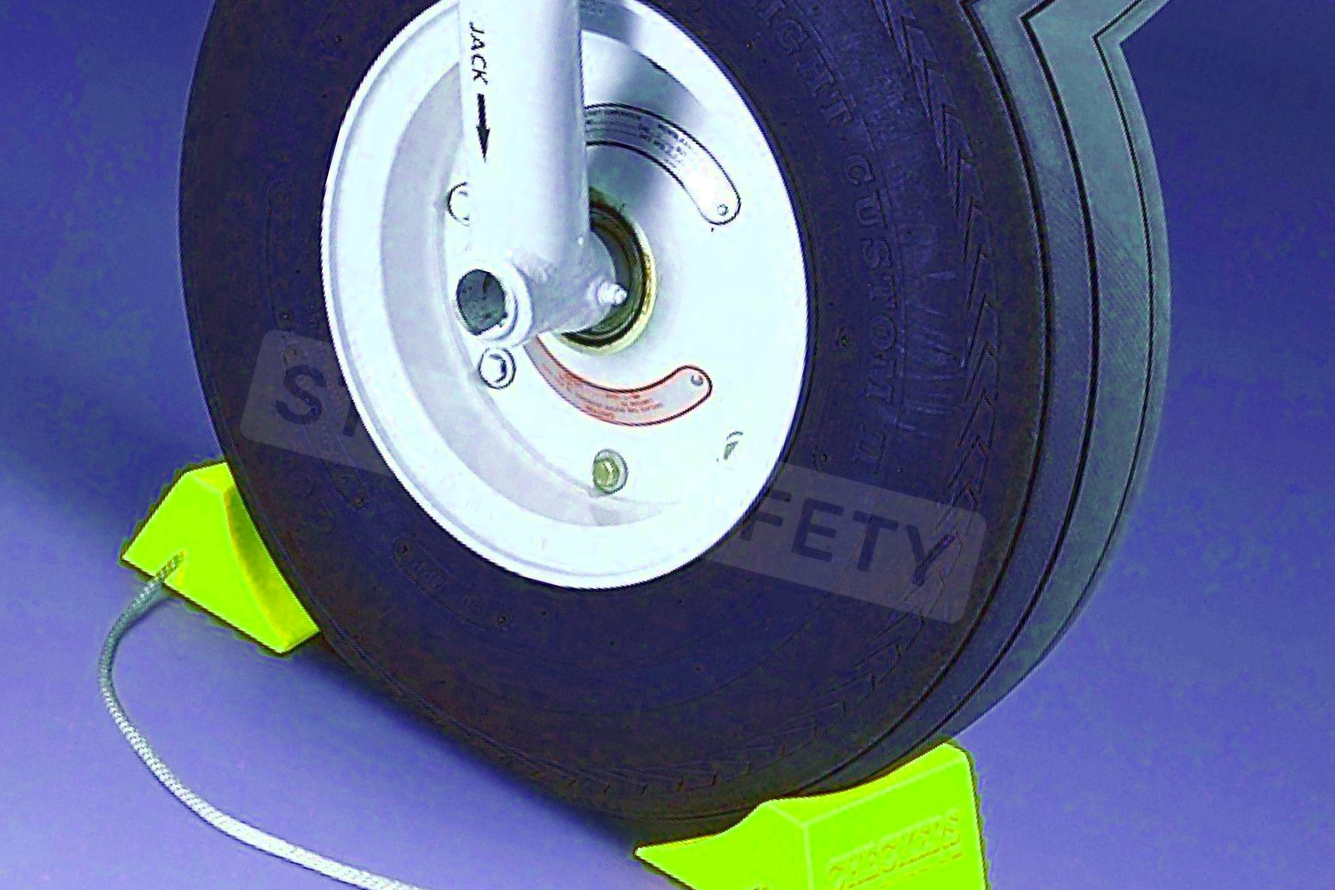chock: (615, 670, 1029, 890), (106, 437, 358, 665)
wheel: (27, 0, 1255, 890)
